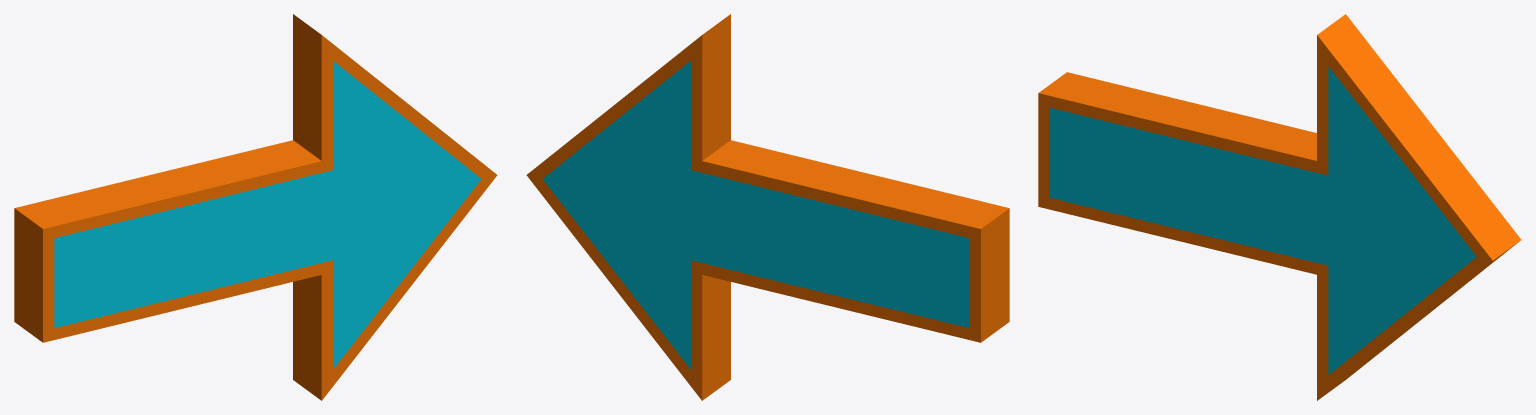
The model's file is seta.fbx.
3 views of the same model, side by side, from view 1: azimuth 30°, elevation 25°; view 2: azimuth 150°, elevation 25°; view 3: azimuth 330°, elevation 25° (orthographic).
Parts seen in each view (by area): view 1: Cube; view 2: Cube; view 3: Cube.
Boxes of the visible parts, <box> form: Cube: <box>14,14,497,400</box>; Cube: <box>526,14,1009,400</box>; Cube: <box>1038,14,1521,400</box>.
Bounding box in the file's own units: 836 × 644 × 91.31.
